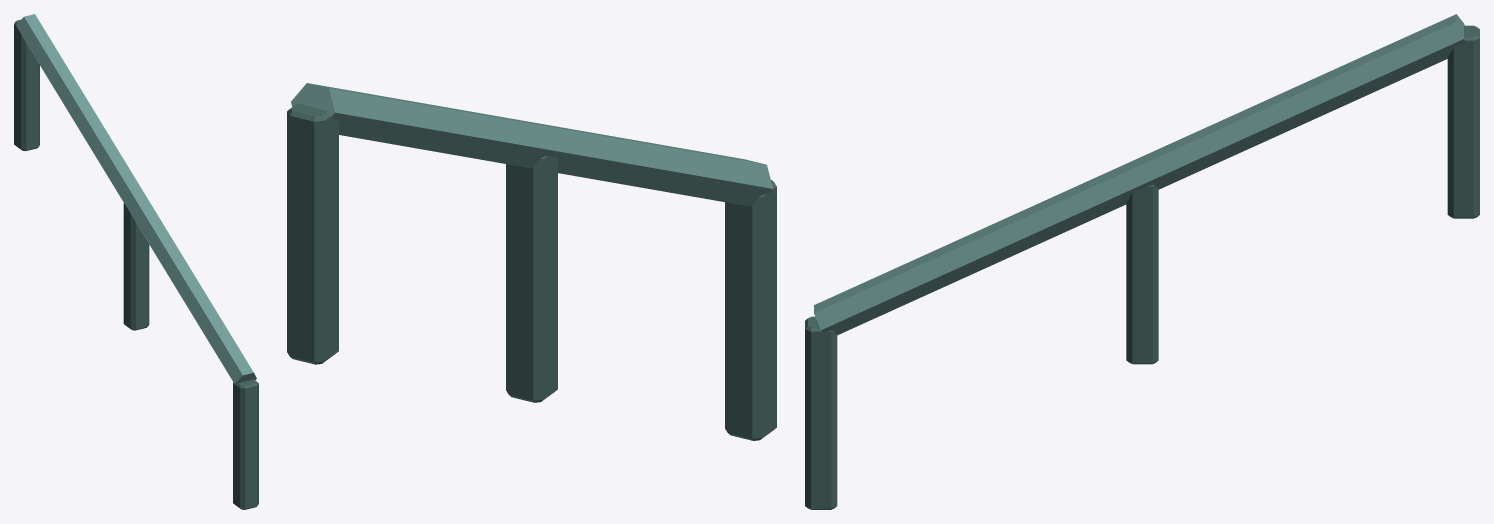
The model's file is stair-rail.glb.
3 views of the same model, side by side, from view 1: azimuth 30°, elevation 25°; view 2: azimuth 150°, elevation 25°; view 3: azimuth 270°, elevation 25° (orthographic). The views are drawn at different scales.
Visible parts, largest first — view 1: stair-rail__body; view 2: stair-rail__body; view 3: stair-rail__body.
Boxes of the visible parts, bbox=[...] form: stair-rail__body: bbox=[14, 14, 258, 509]; stair-rail__body: bbox=[287, 83, 776, 440]; stair-rail__body: bbox=[805, 14, 1479, 509].
Size of the model in its own units: 0.14 by 2 by 2.52.
